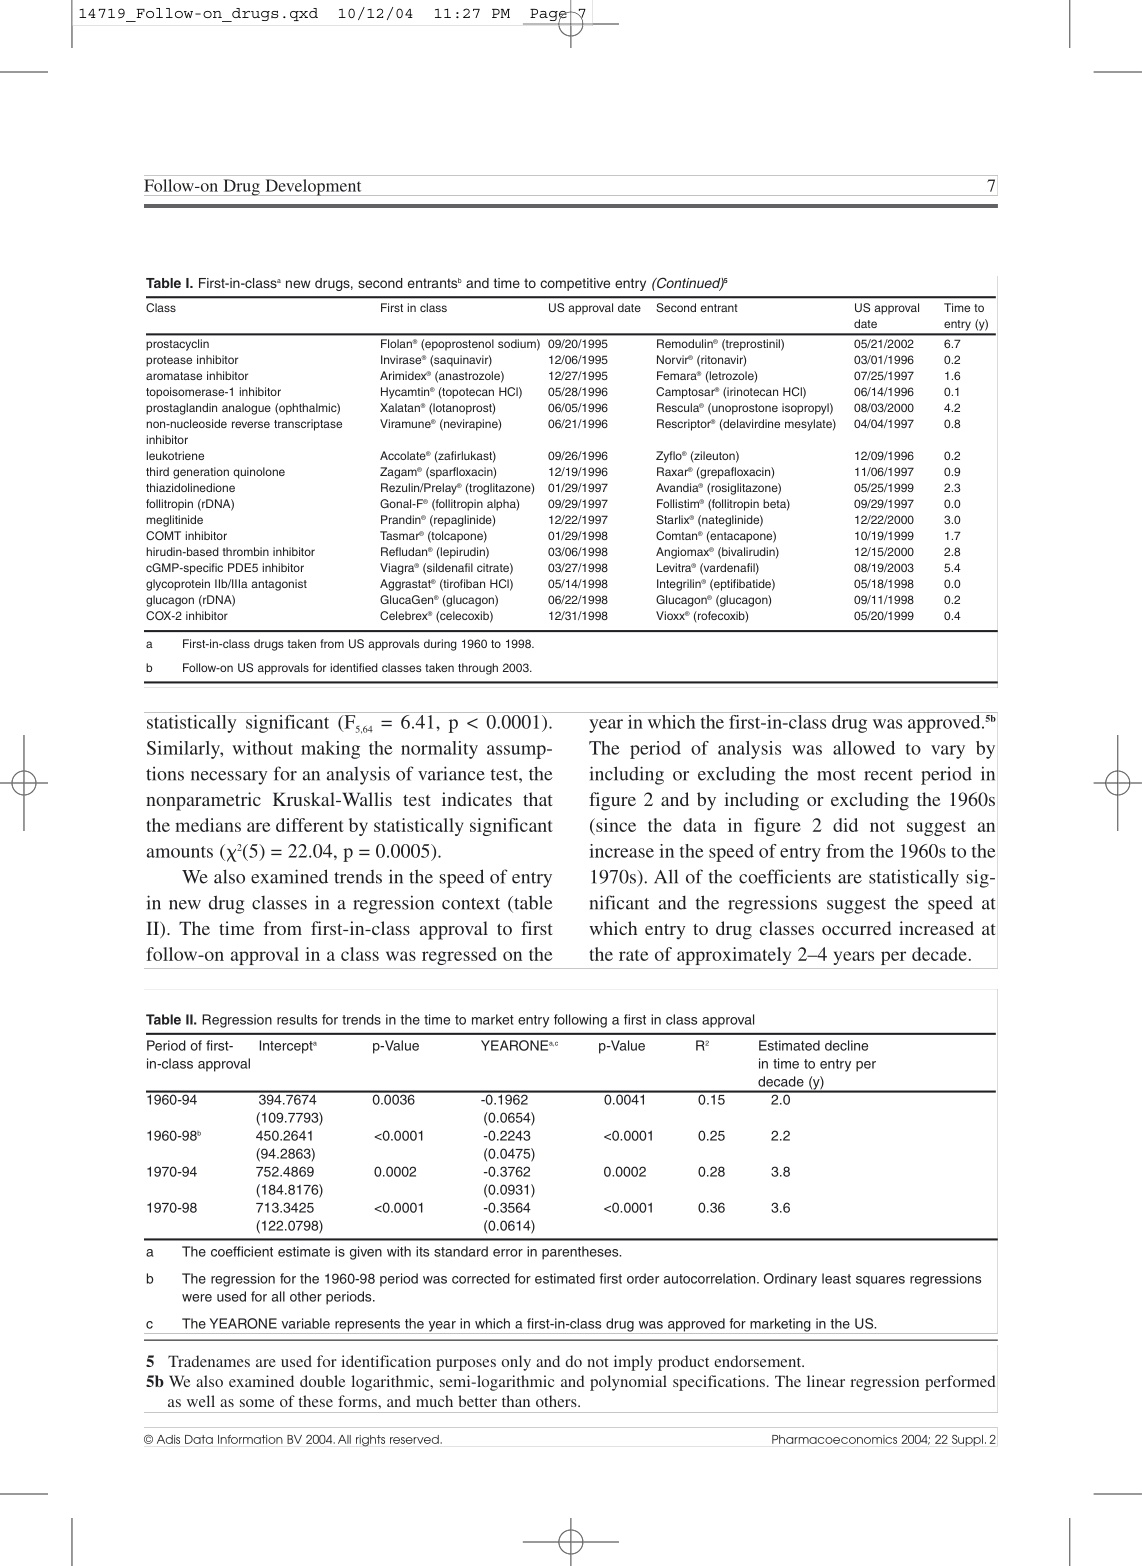partial_lined_merged_cells: (144, 294, 1000, 685), (144, 1031, 1000, 1344)
